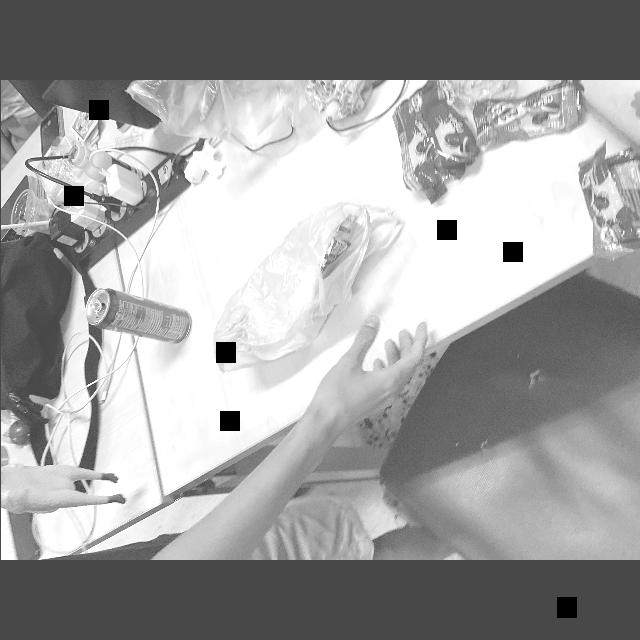can: (83, 286, 191, 346)
plastic_bag: (208, 198, 406, 372), (130, 80, 306, 140)
plastic_bottle: (62, 144, 148, 190)
plastic_box: (27, 134, 87, 208)
plastic_cup: (0, 192, 64, 234)
scrap_paper: (182, 142, 224, 185)
snack_bag: (380, 80, 476, 202), (574, 136, 640, 262), (472, 80, 582, 154)
straw: (0, 220, 50, 230)
